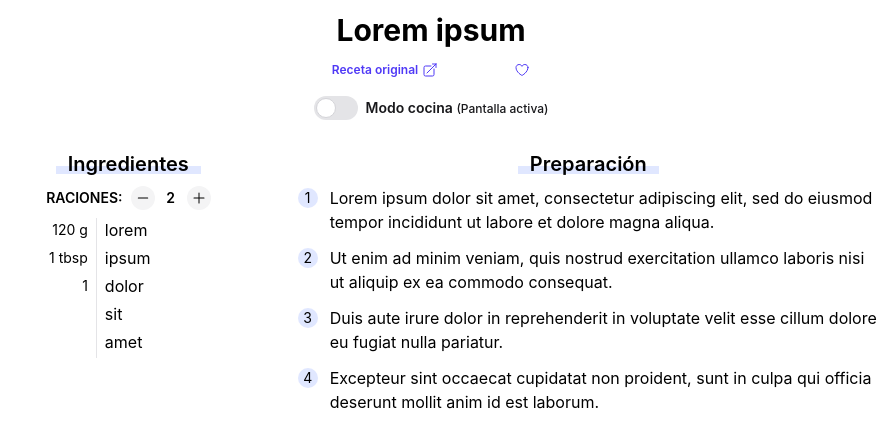
Test: Recipe › items in Spanish language › displays updated amount of ingredients when servings are changed
Expected: the field labelled "Raciones:" holds "2", [162,188,178,208]
Expected: the row "120 g lorem" is shown, [16,218,240,246]
Click the button named "Aumentar raciones" at (198, 198), box [186,186,210,210]
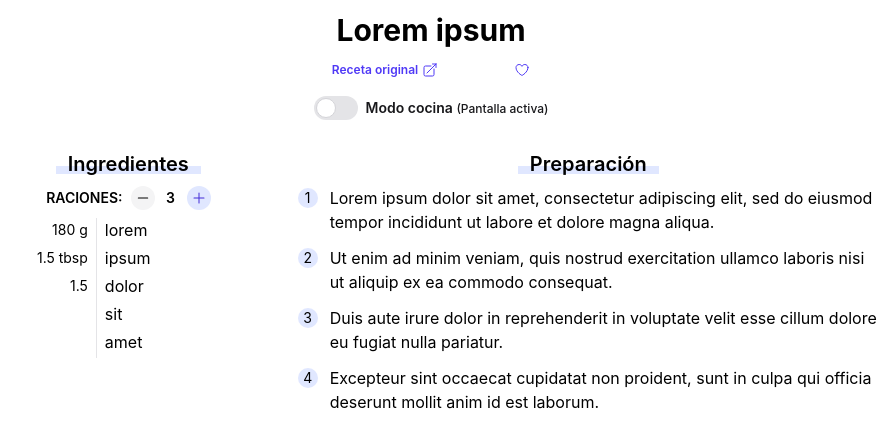
Result: the field labelled "Raciones:" holds "3" at [162,188,178,208]
Result: the row "180 g lorem" is shown at [16,218,240,246]
Click the button named "Disminuir raciones" at (142, 198), box [130,186,154,210]
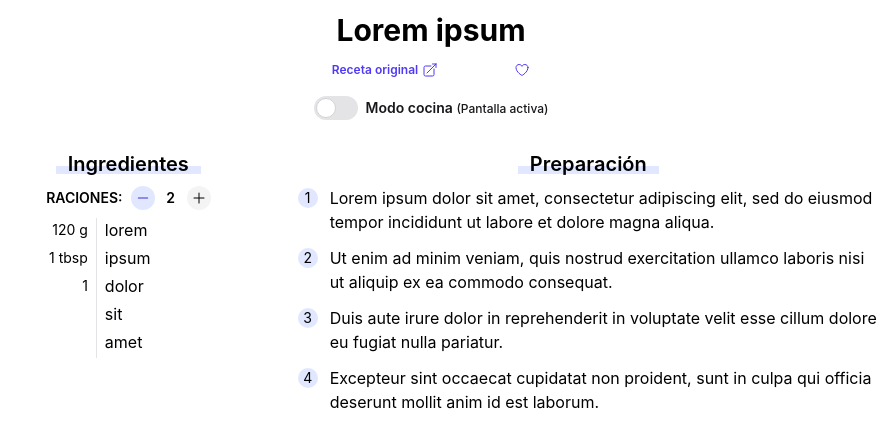
Click the button named "Disminuir raciones" at (142, 198), box [130,186,154,210]
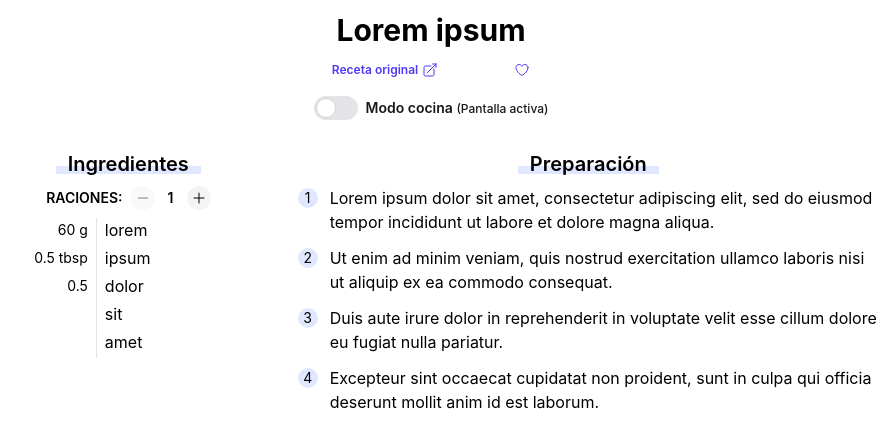
Result: the field labelled "Raciones:" holds "1" at [162,188,178,208]
Result: the row "60 g lorem" is shown at [16,218,240,246]
